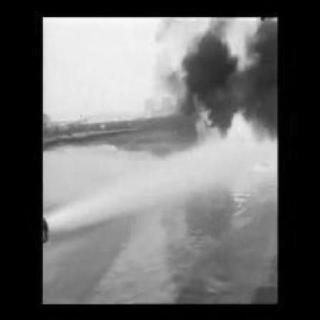Fire: (188, 91, 274, 148)
Smoke: (177, 19, 275, 89)
